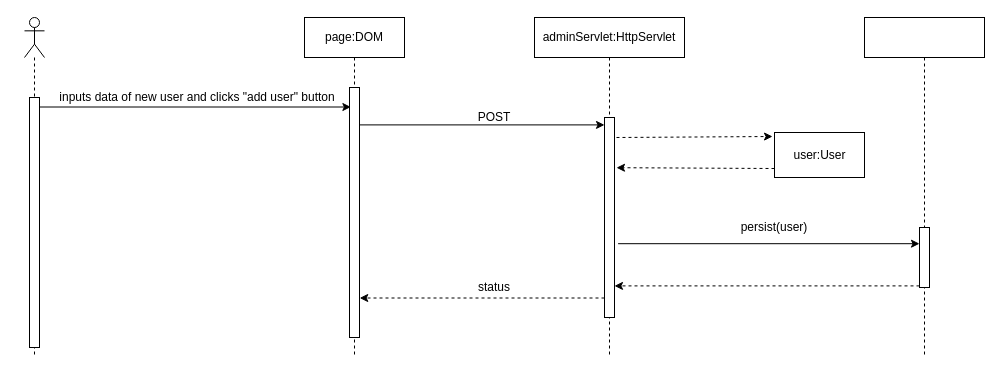
This 1002x375 diagram has some shape labels left out. The box of each missing label's shape, as (x1, y1, x2, y2) in pixels:
Admin User: (24, 16, 44, 358)
em:EntityManager: (864, 16, 984, 358)
